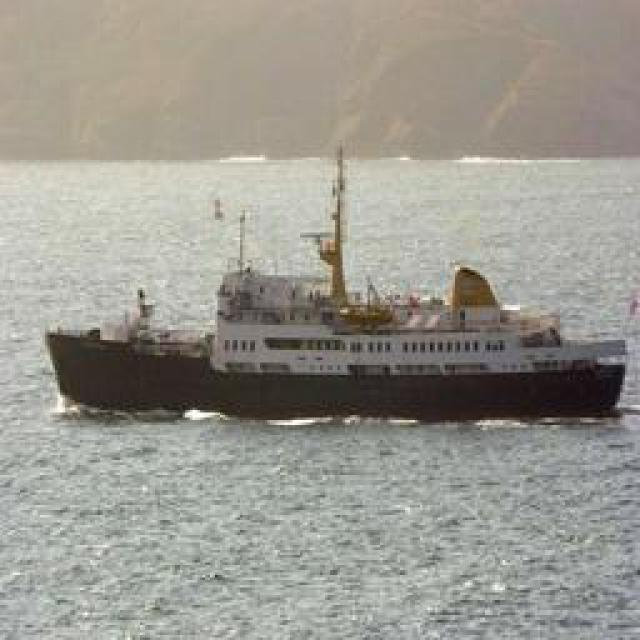Ship: (35, 224, 618, 427)
